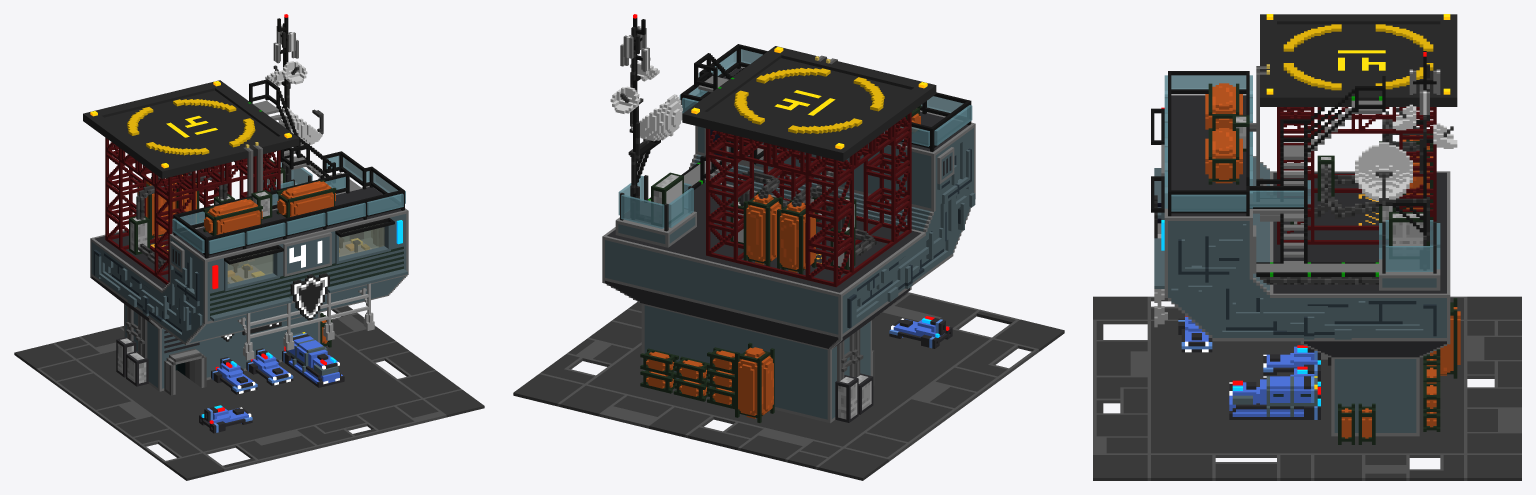
Rendered from almacen_lev3.glb.
3 views of the same model, side by side, from view 1: azimuth 30°, elevation 25°; view 2: azimuth 150°, elevation 25°; view 3: azimuth 270°, elevation 25° (orthographic). The views are drawn at different scales.
Visible parts, largest first — view 1: Object_2.001; view 2: Object_2.001; view 3: Object_2.001.
Boxes of the visible parts, x1=… form: Object_2.001: x1=14, y1=14, x2=484, y2=480; Object_2.001: x1=513, y1=14, x2=1064, y2=480; Object_2.001: x1=1093, y1=14, x2=1521, y2=480.
Bounding box in the file's own units: 41.64 × 41.64 × 41.64.
1 material, 1 textured.
